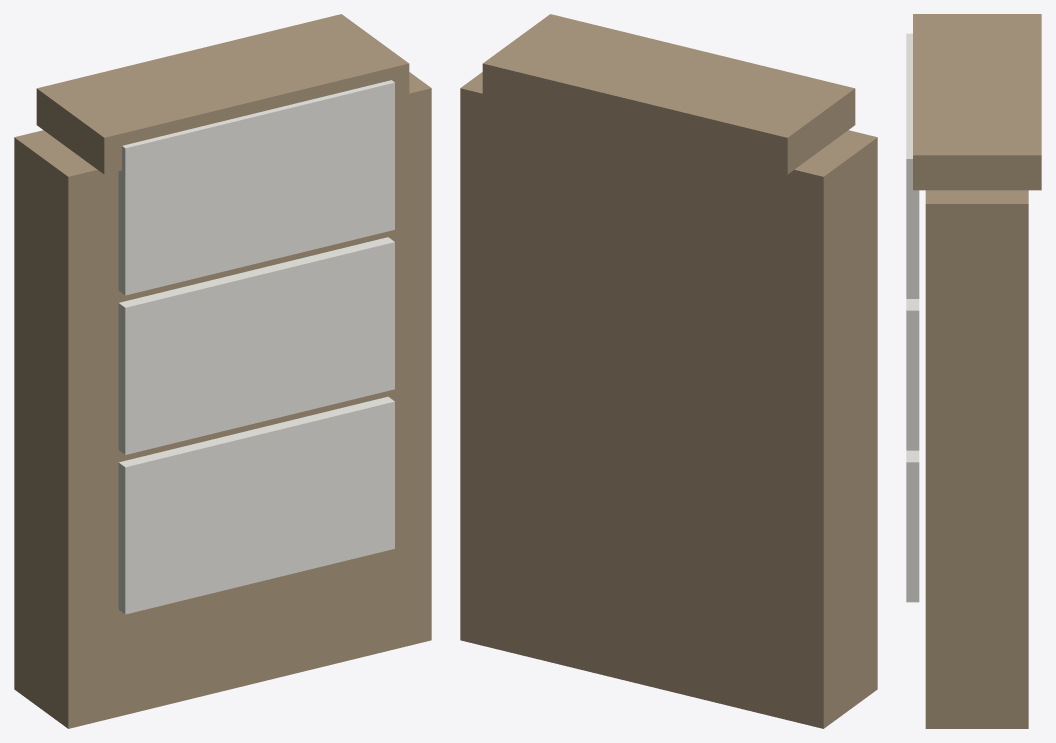
File: trench-line-1917-orders-board-b3fba1df__24051.glb
3 views of the same model, side by side, from view 1: azimuth 30°, elevation 25°; view 2: azimuth 150°, elevation 25°; view 3: azimuth 270°, elevation 25° (orthographic). The views are drawn at different scales.
Visible parts, largest first — view 1: orders-board; view 2: orders-board; view 3: orders-board.
Part boxes in pixels (bbox=[...]): orders-board: bbox=[14, 14, 431, 728]; orders-board: bbox=[460, 14, 877, 728]; orders-board: bbox=[906, 14, 1041, 728].
Size of the model in its own units: 0.62 by 0.96 by 0.21.
